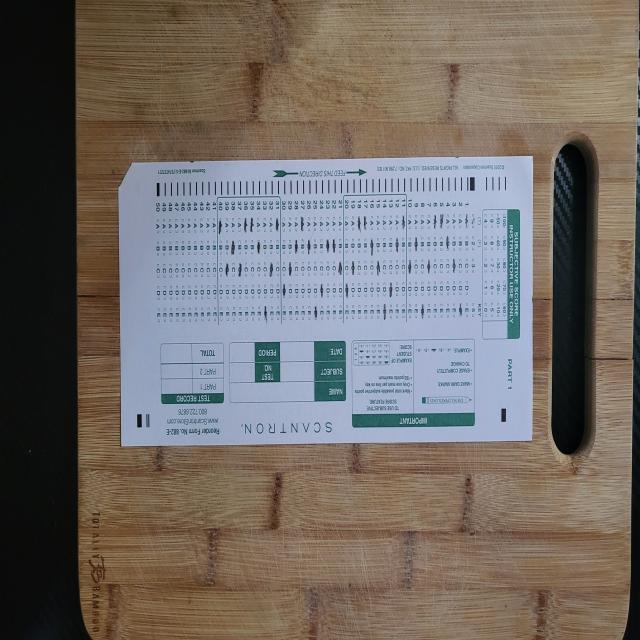scantron: (118, 154, 533, 446)
